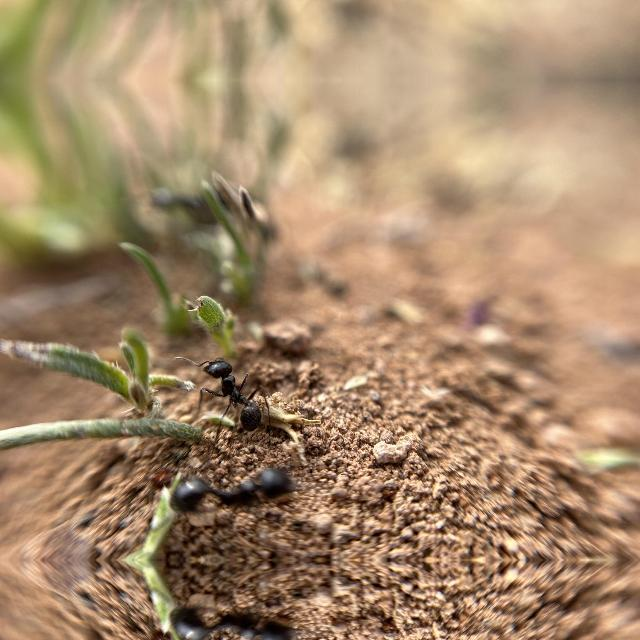Messor: (170, 461, 294, 527), (182, 357, 276, 435), (169, 593, 294, 640)
